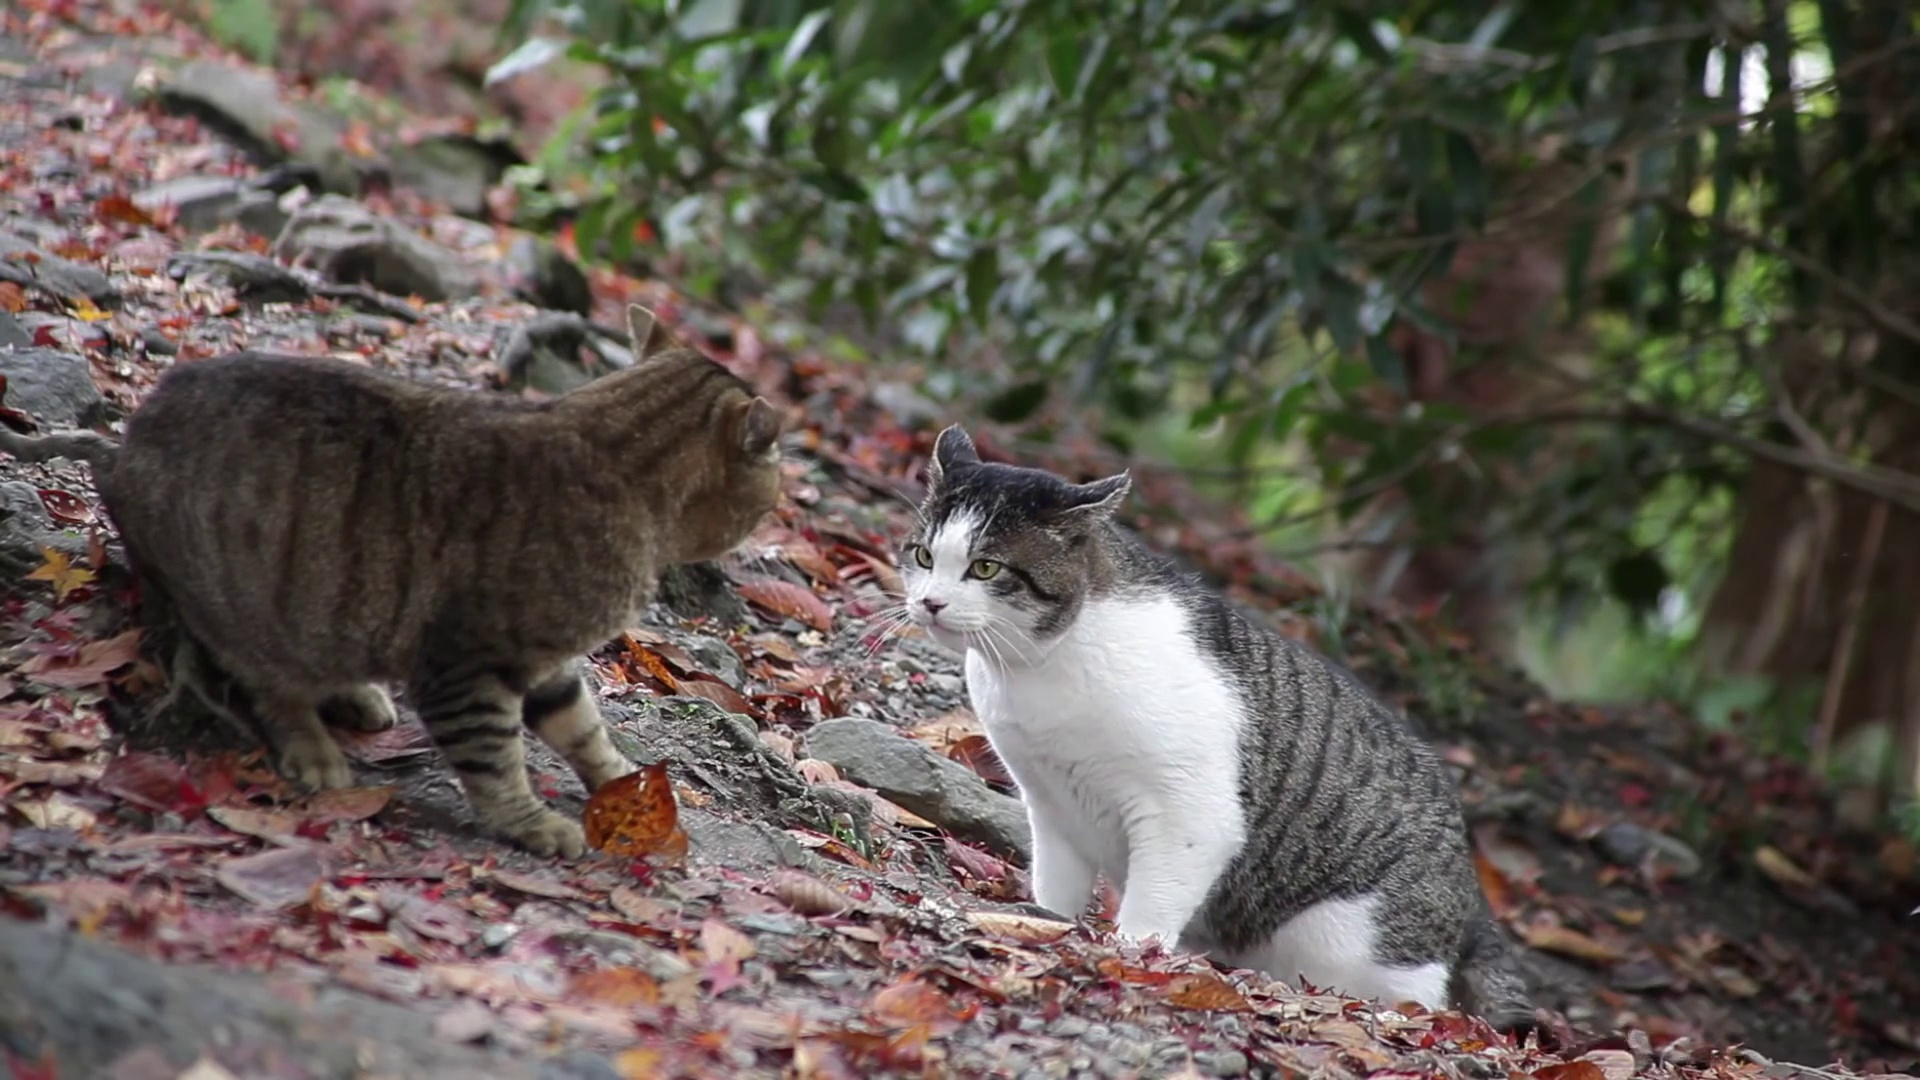black-white: (903, 421, 1476, 1007)
pure black: (104, 302, 781, 868)
